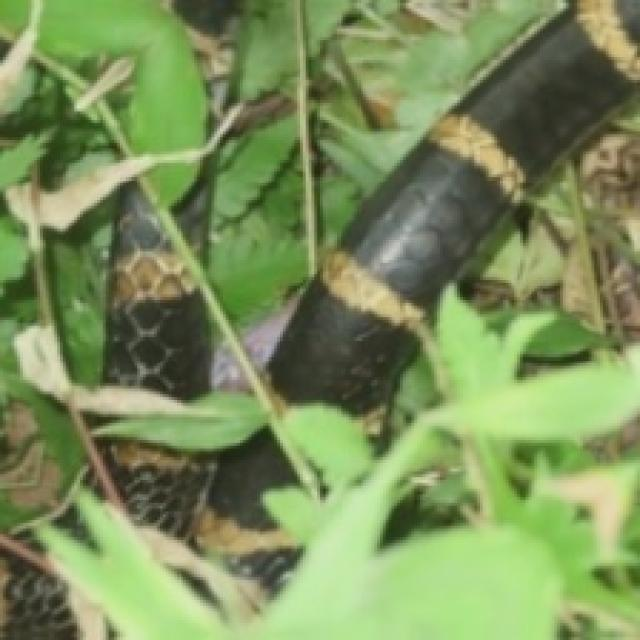king cobra: (0, 0, 637, 637), (431, 226, 580, 337), (103, 437, 214, 531)
